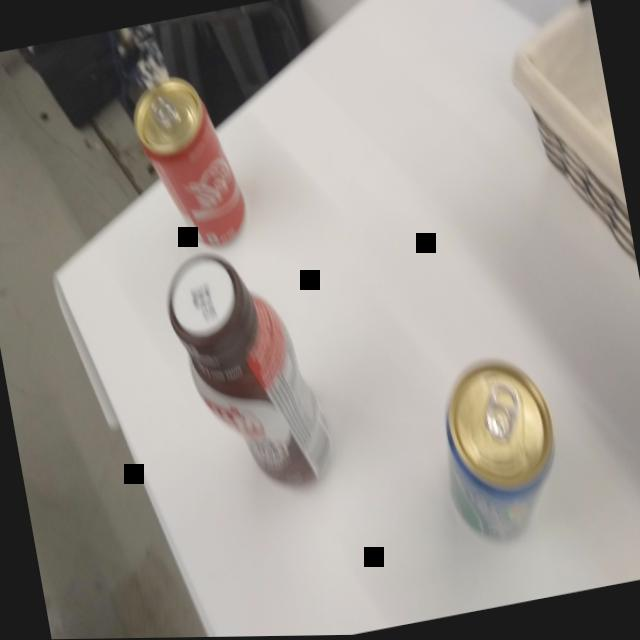chocolate_drink: (154, 229, 344, 514)
coke: (125, 65, 258, 267)
sprite: (420, 343, 578, 559)
